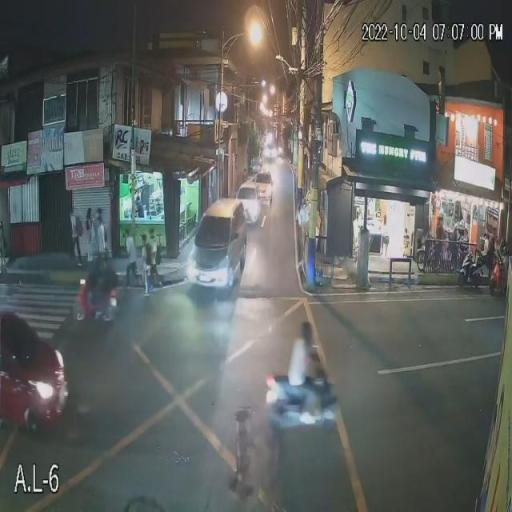helmet: (300, 318, 320, 340), (86, 252, 102, 270), (100, 247, 115, 260)
motorcycle: (269, 368, 340, 431), (69, 282, 127, 324)
rider: (281, 318, 316, 388), (82, 248, 102, 308), (100, 246, 118, 296)
